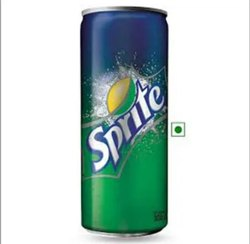sprite_can: (79, 7, 169, 237)
